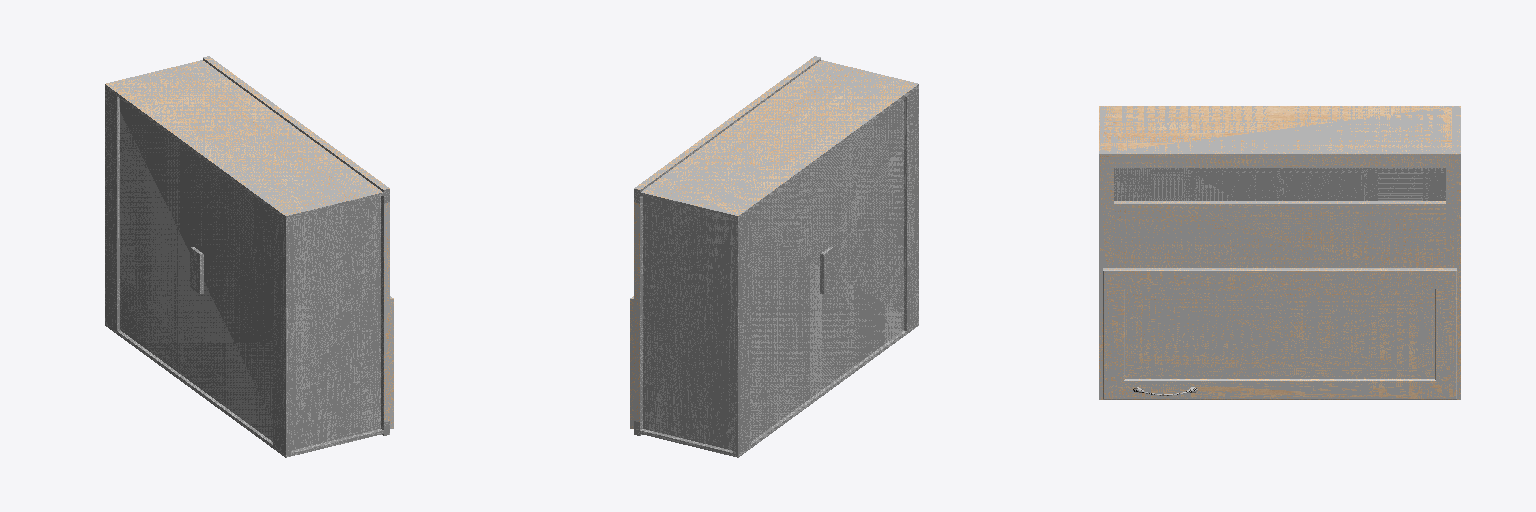
The picture shows the model from 3 angles: view 1: azimuth 30°, elevation 25°; view 2: azimuth 150°, elevation 25°; view 3: azimuth 270°, elevation 25°; orthographic projection.
Visible parts, largest first — view 1: mesh10.001_mesh10-geometry, mesh7.001_mesh7-geometry, mesh11.001_mesh11-geometry, mesh1.001_mesh1-geometry, mesh1.002_mesh1-geometry, mesh9.001_mesh9-geometry, mesh3.001_mesh3-geometry, mesh12.001_mesh12-geometry, mesh6.001_mesh6-geometry; view 2: mesh10.001_mesh10-geometry, mesh8.002_mesh8-geometry, mesh11.001_mesh11-geometry, mesh1.002_mesh1-geometry, mesh1.001_mesh1-geometry, mesh9.002_mesh9-geometry, mesh3.001_mesh3-geometry, mesh12.001_mesh12-geometry, mesh6.001_mesh6-geometry; view 3: mesh4.001_mesh4-geometry, mesh22.002_mesh22-geometry, mesh11.001_mesh11-geometry, mesh10.001_mesh10-geometry, mesh20.002_mesh20-geometry, mesh19.002_mesh19-geometry, mesh3.001_mesh3-geometry, mesh18.002_mesh18-geometry, mesh17.002_mesh17-geometry, mesh9.002_mesh9-geometry, mesh9.001_mesh9-geometry, mesh16.002_mesh16-geometry (+3 smaller).
Part boxes in pixels (x1,y1,x2,y2): mesh10.001_mesh10-geometry: (120,99,290,453); mesh7.001_mesh7-geometry: (291,197,380,450); mesh11.001_mesh11-geometry: (105,60,383,219); mesh1.001_mesh1-geometry: (273,211,288,453); mesh1.002_mesh1-geometry: (105,88,119,330); mesh9.001_mesh9-geometry: (381,202,389,421); mesh3.001_mesh3-geometry: (203,56,389,203); mesh12.001_mesh12-geometry: (105,323,383,457); mesh6.001_mesh6-geometry: (190,247,203,293); mesh10.001_mesh10-geometry: (733,99,903,453); mesh8.002_mesh8-geometry: (643,197,732,450); mesh11.001_mesh11-geometry: (640,60,918,219); mesh1.002_mesh1-geometry: (735,211,750,453); mesh1.001_mesh1-geometry: (904,88,918,330); mesh9.002_mesh9-geometry: (634,202,642,421); mesh3.001_mesh3-geometry: (634,56,820,203); mesh12.001_mesh12-geometry: (640,323,918,457); mesh6.001_mesh6-geometry: (820,247,833,293); mesh4.001_mesh4-geometry: (1114,201,1445,267); mesh22.002_mesh22-geometry: (1142,299,1417,368); mesh11.001_mesh11-geometry: (1099,106,1460,150); mesh10.001_mesh10-geometry: (1114,168,1445,200); mesh20.002_mesh20-geometry: (1142,268,1417,298); mesh19.002_mesh19-geometry: (1142,369,1417,399); mesh3.001_mesh3-geometry: (1099,151,1460,167); mesh18.002_mesh18-geometry: (1103,299,1141,369); mesh17.002_mesh17-geometry: (1418,299,1456,369); mesh9.002_mesh9-geometry: (1446,168,1460,386); mesh9.001_mesh9-geometry: (1099,168,1113,386); mesh16.002_mesh16-geometry: (1103,268,1141,299).
Size of the model in its own units: 0.2965 by 0.573 by 0.764.
4 materials, 2 textured.